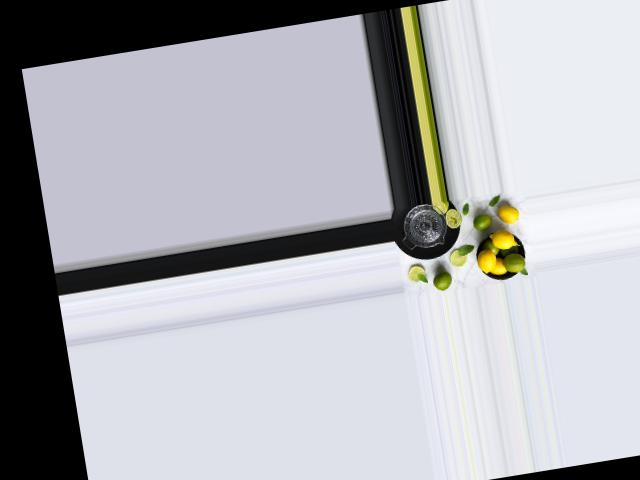lemon: (431, 271, 454, 291)
